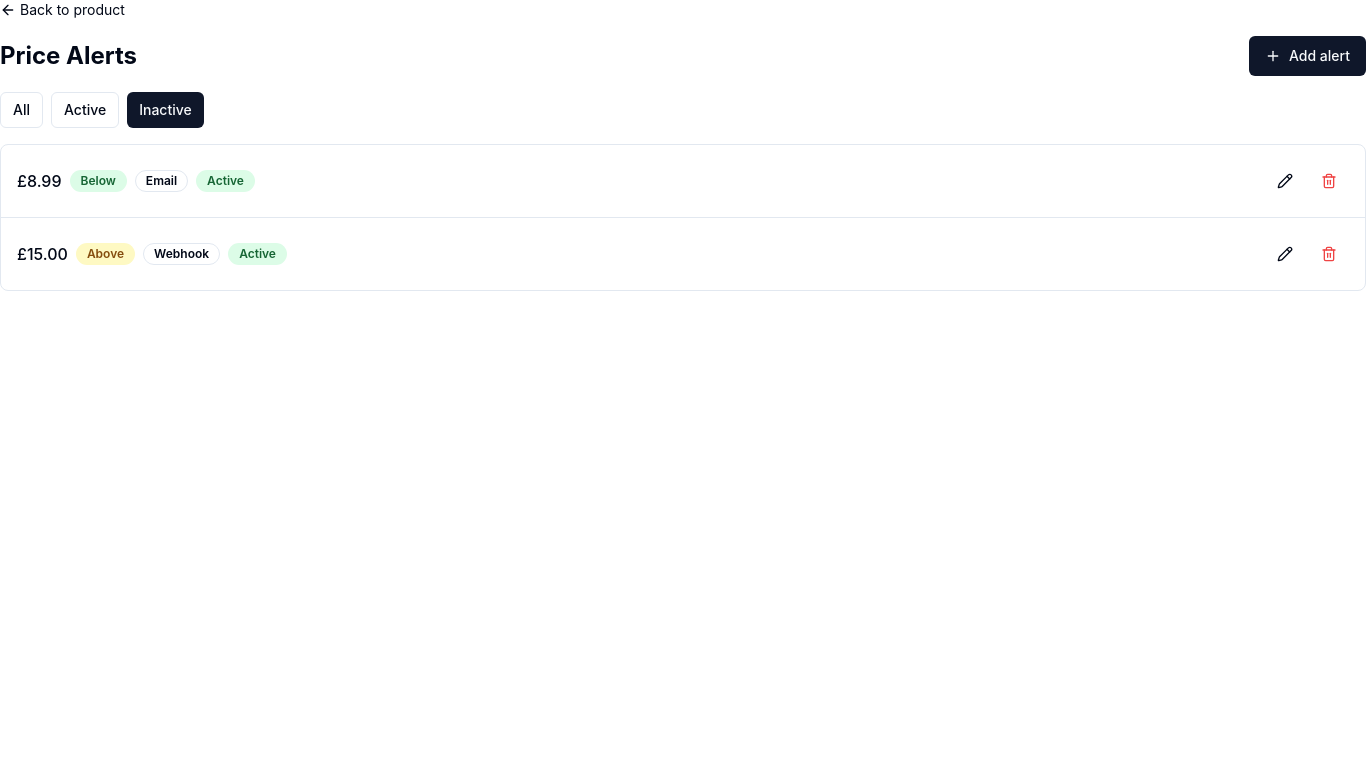
AlertManager › opens edit dialog for an existing alert
This screenshot has width=1366, height=768.
Click the 1st button named "edit": (1285,181) [1265,161,1305,201]
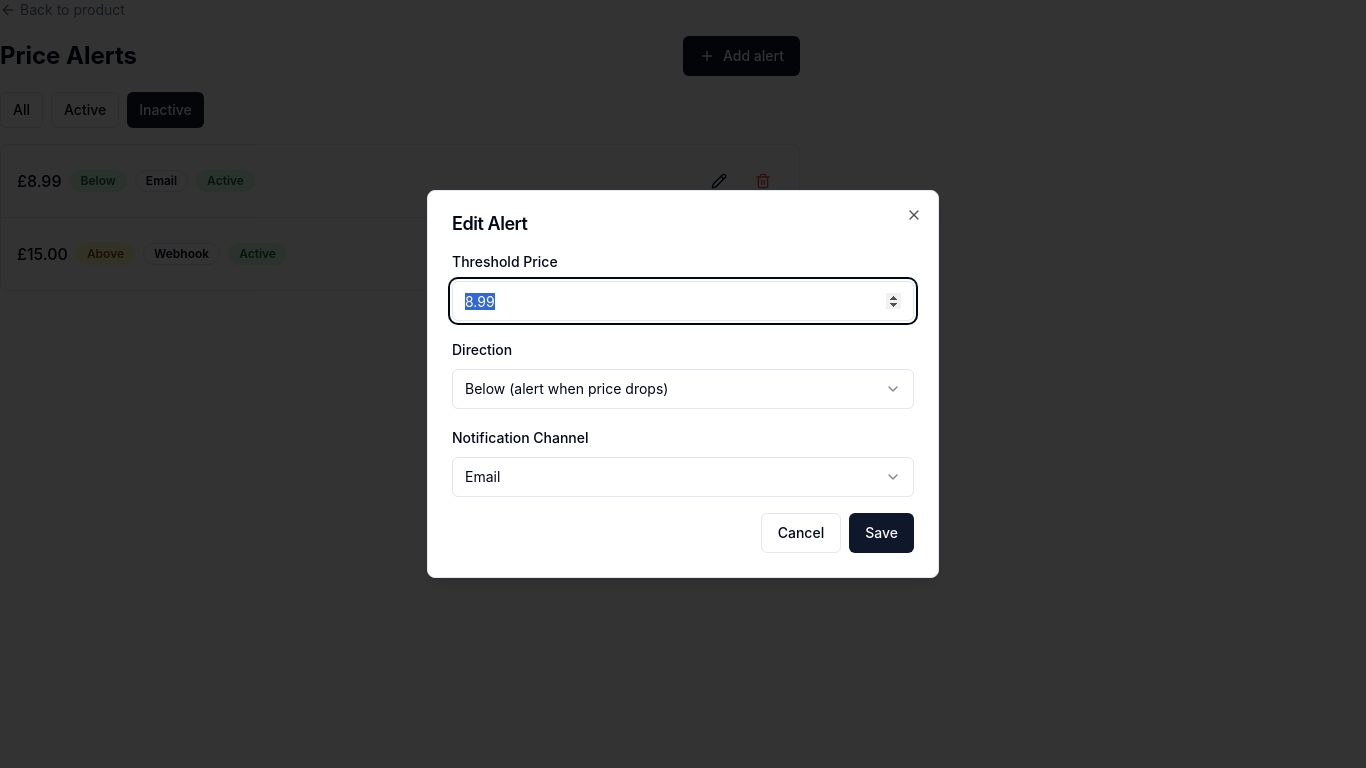
Expected: the dialog is shown, [427,190,939,578]
